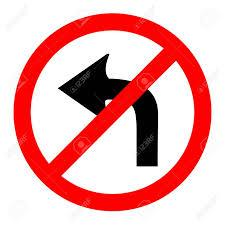no_left_turn: (11, 12, 212, 209)
